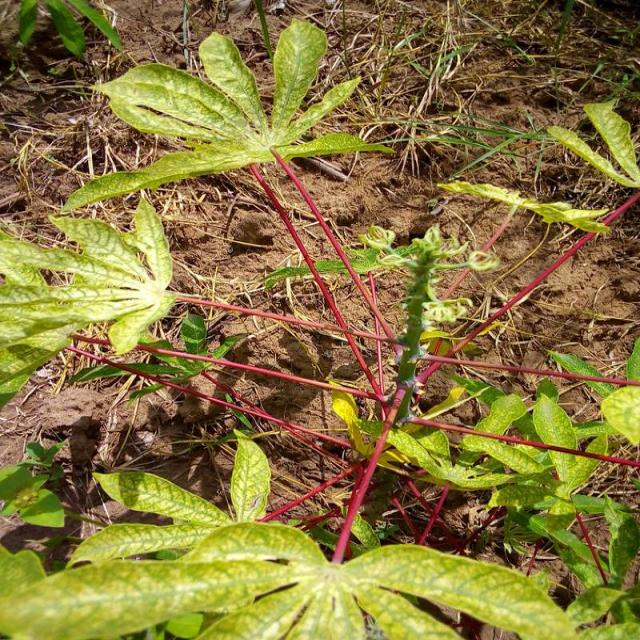cassava leaf: (1, 196, 177, 406)
